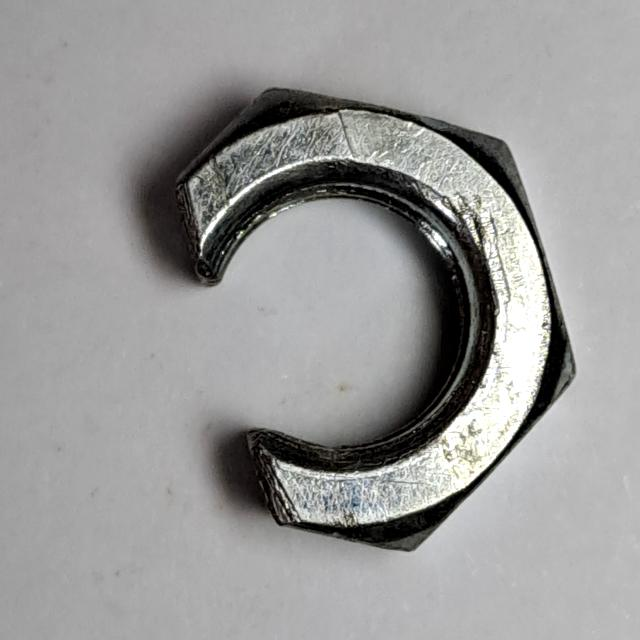Fracture: (160, 79, 586, 572)
